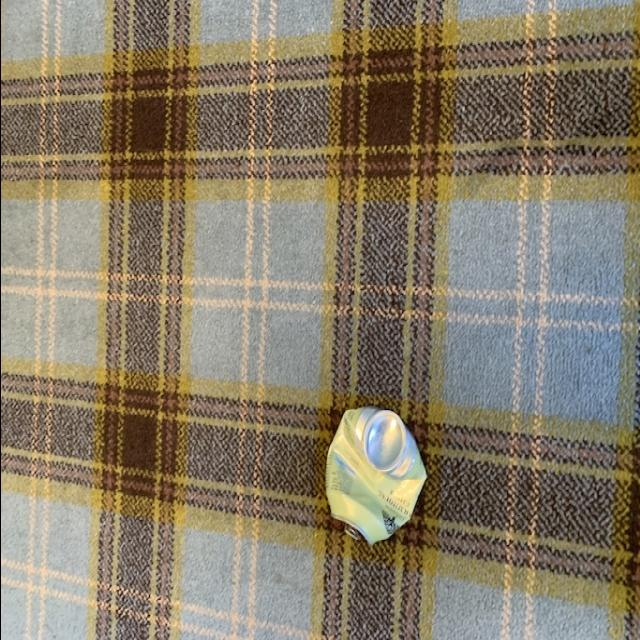litter: (324, 405, 424, 546)
